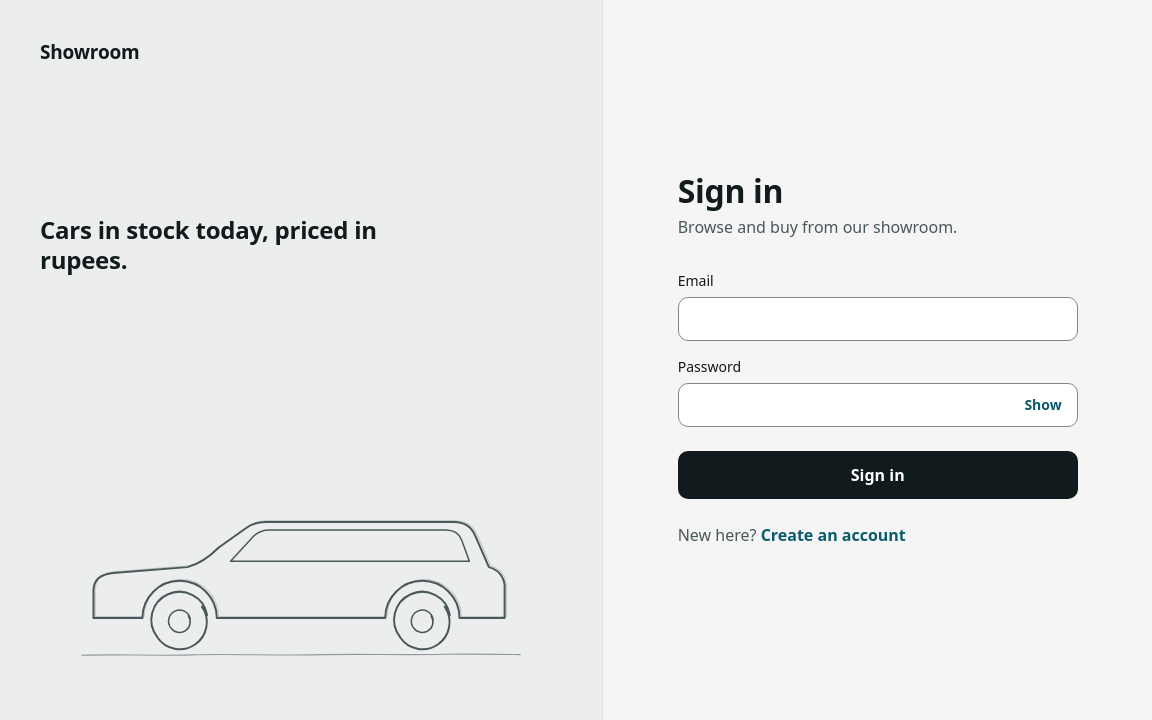
Test: Login page › signs in, stores the token and opens the inventory
Type "asha@example.com" into the field labelled "Email" at x=878, y=319, box [678, 297, 1078, 341]
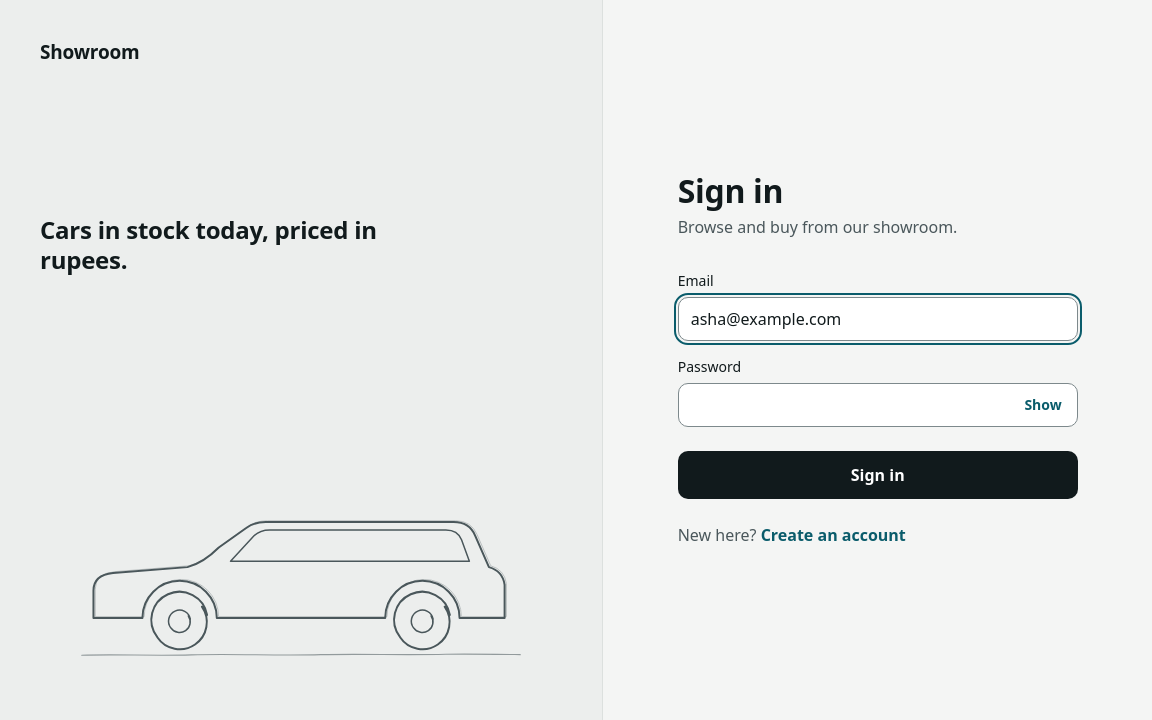
Type "correct horse battery" into the password field labelled "Password" at x=878, y=405, box [678, 383, 1078, 427]
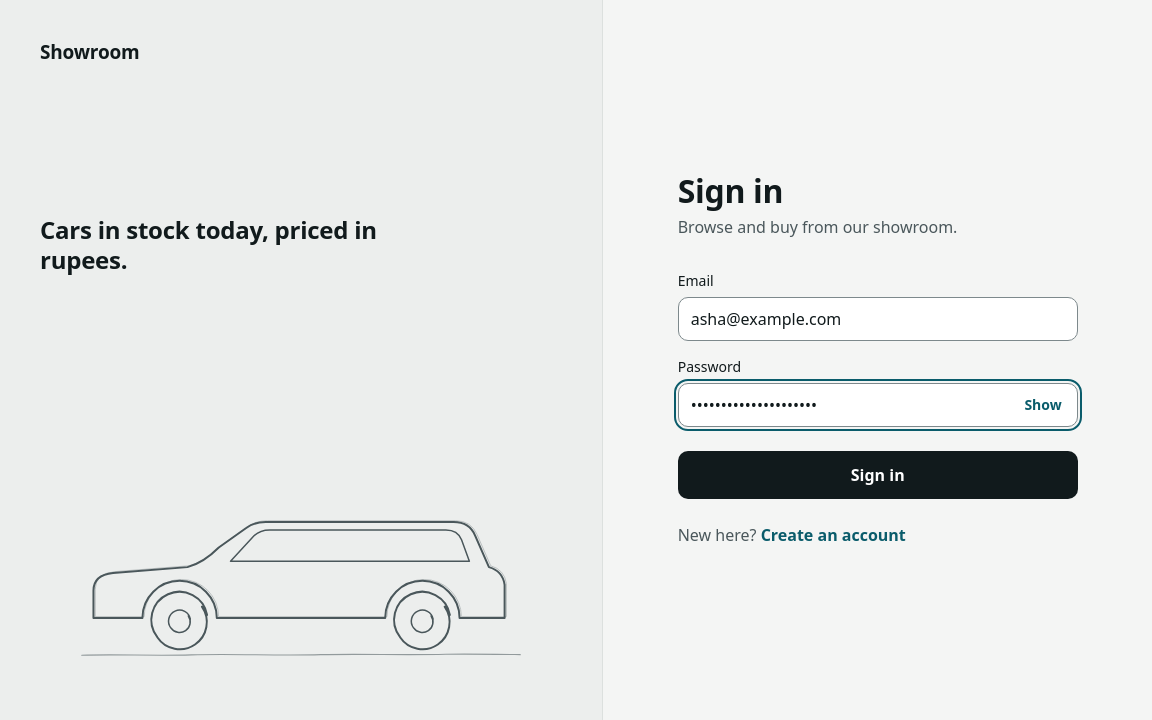
Click the button "Sign in" at x=878, y=475, box [678, 451, 1078, 499]
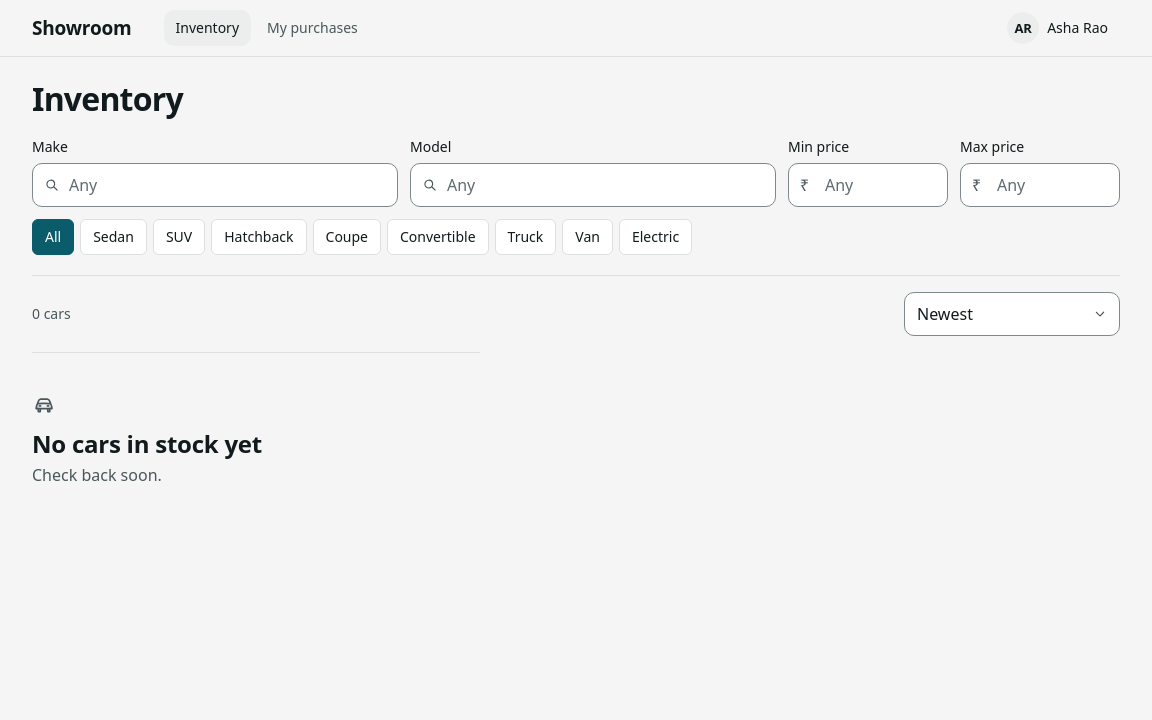
Result: the heading "Inventory" is shown at [32, 81, 183, 117]
